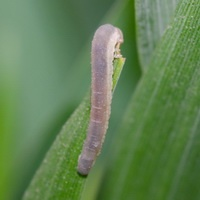insect: (77, 24, 122, 174)
